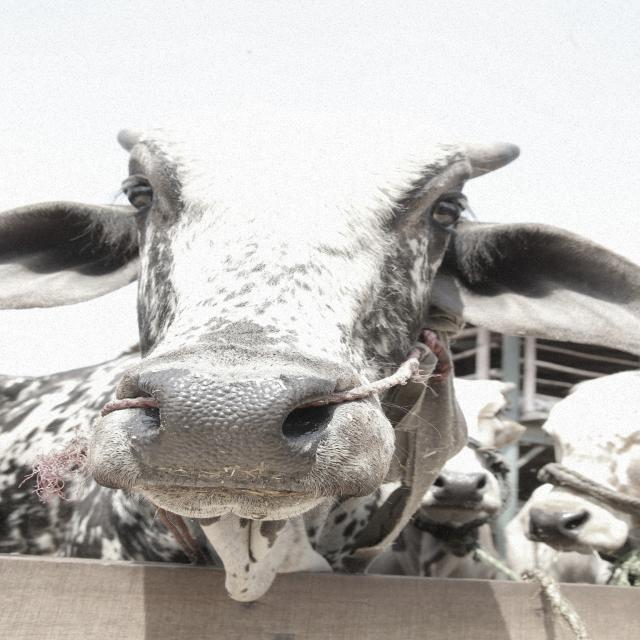muzzles: (115, 356, 354, 494)
